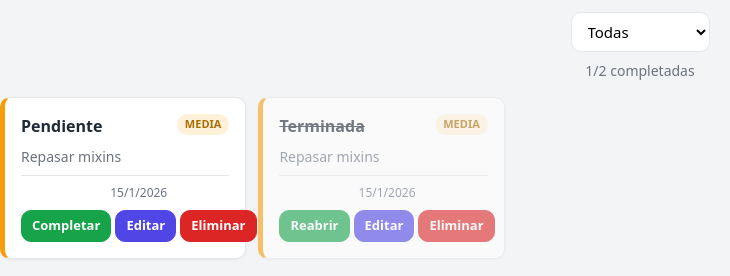
Test case: TaskList › filtra las tareas pendientes y completadas
Expected: the heading "Pendiente" is shown, [21, 114, 102, 138]
Select "Pendientes" in the dropdown at (640, 32), box [570, 12, 710, 52]
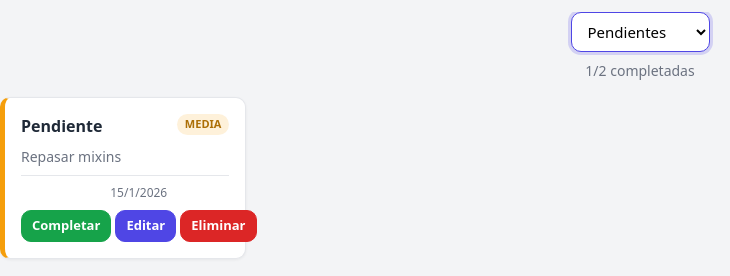
Expected: the heading "Pendiente" is shown, [21, 114, 102, 138]
Now the heading "Terminada" is gone
Select "Completadas" in the dropdown at (640, 32), box [570, 12, 710, 52]
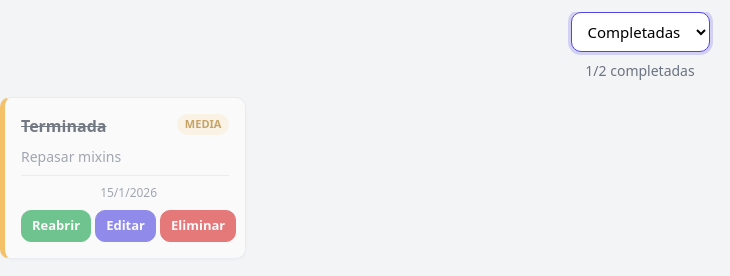
Now the heading "Pendiente" is gone
Now the heading "Terminada" is shown, box [21, 114, 106, 138]
